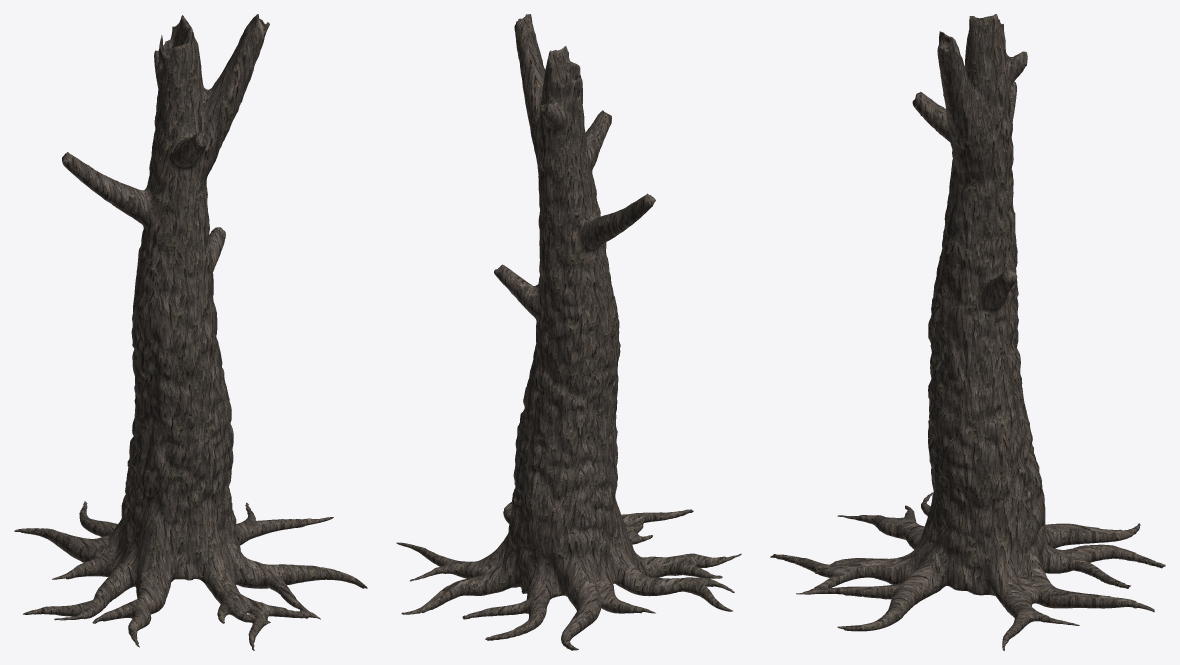
Rendered from dead-snag-v03.glb.
The picture shows the model from 3 angles, left to right: view 1: azimuth 30°, elevation 25°; view 2: azimuth 150°, elevation 25°; view 3: azimuth 270°, elevation 25°; orthographic projection. The views are drawn at different scales.
Parts seen in each view (by area): view 1: Dead snag v02 | connected branches; view 2: Dead snag v02 | connected branches; view 3: Dead snag v02 | connected branches.
Boxes of the visible parts, box(x1,y1,x2,y2) form: Dead snag v02 | connected branches: box(14, 14, 367, 650); Dead snag v02 | connected branches: box(396, 14, 741, 650); Dead snag v02 | connected branches: box(770, 14, 1165, 650).
Size of the model in its own units: 3.64 by 5.96 by 3.68.
1 material, 1 textured.
